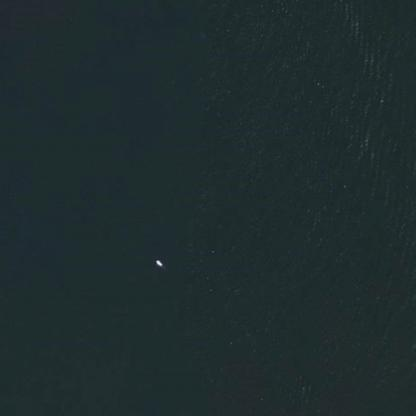ship: (149, 252, 168, 274)
